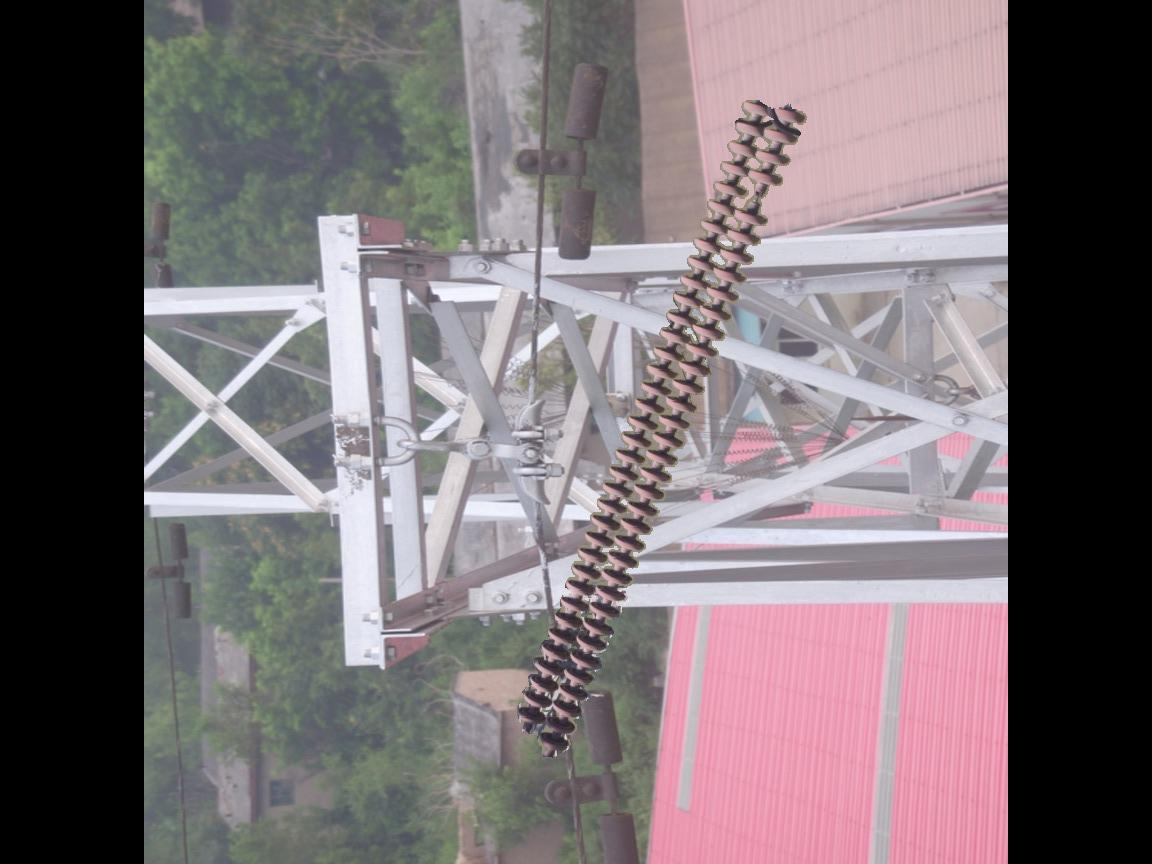insulator: (511, 96, 813, 758)
insulator_stringdrop: (733, 166, 786, 231)
